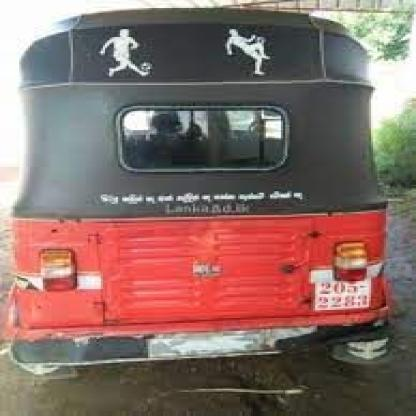number plate: (316, 280, 370, 311)
three wheeler back: (0, 1, 402, 384)
